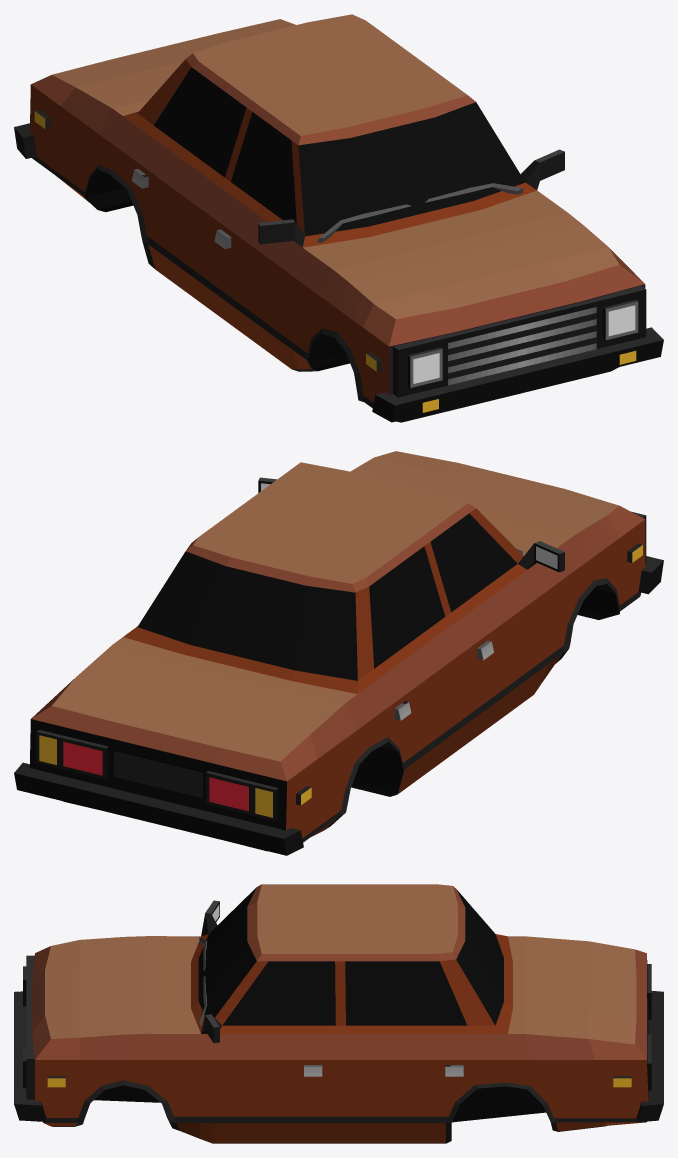
The model's file is SedanBrown.fbx.
The picture shows the model from 3 angles, top to bottom: view 1: azimuth 30°, elevation 25°; view 2: azimuth 150°, elevation 25°; view 3: azimuth 270°, elevation 25°; orthographic projection. The views are drawn at different scales.
Visible parts, largest first — view 1: SedanBrown; view 2: SedanBrown; view 3: SedanBrown.
Part boxes in pixels (x1,y1,x2,y2): SedanBrown: [14, 14, 663, 422]; SedanBrown: [14, 451, 663, 855]; SedanBrown: [14, 884, 663, 1143].
Size of the model in its own units: 1.75 by 1.14 by 3.78.
